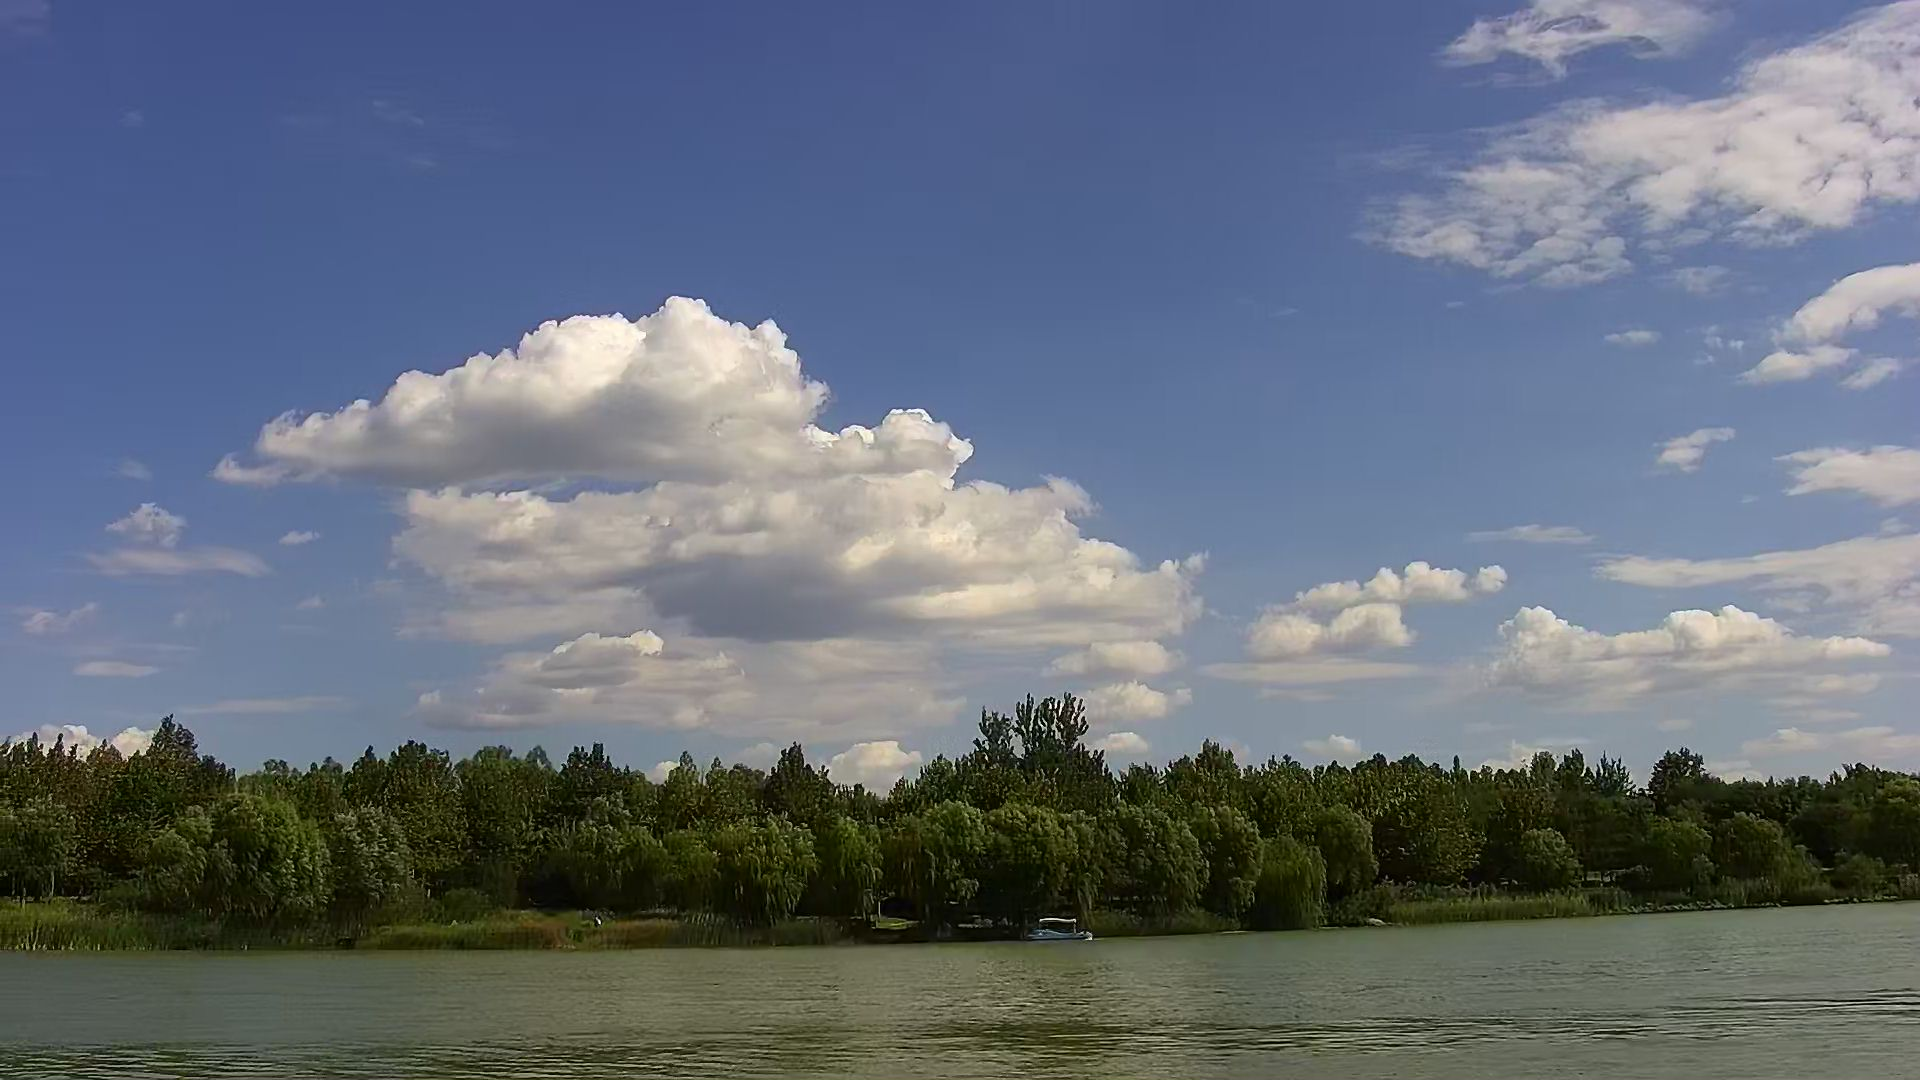boat: (1021, 915, 1098, 945)
